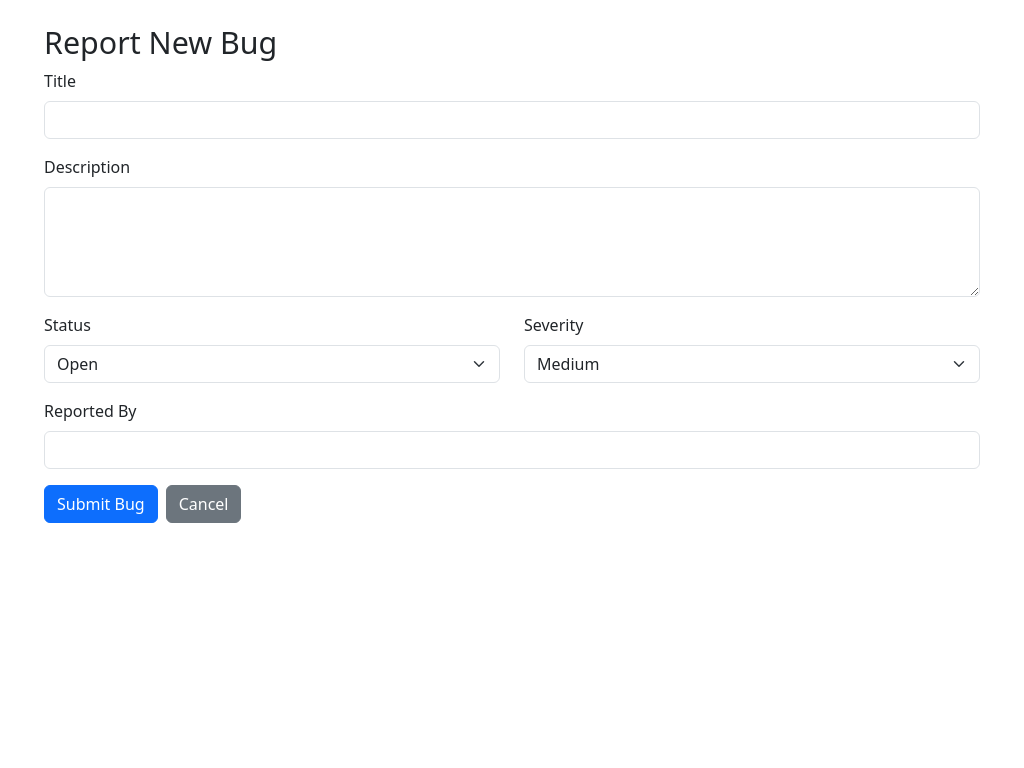
Test: BugForm Component › handles API errors on submission
Note: Fill form partially
Step 1. Type "Tester" into the field labelled "Reported By" → (512, 450), box [44,430,980,468]
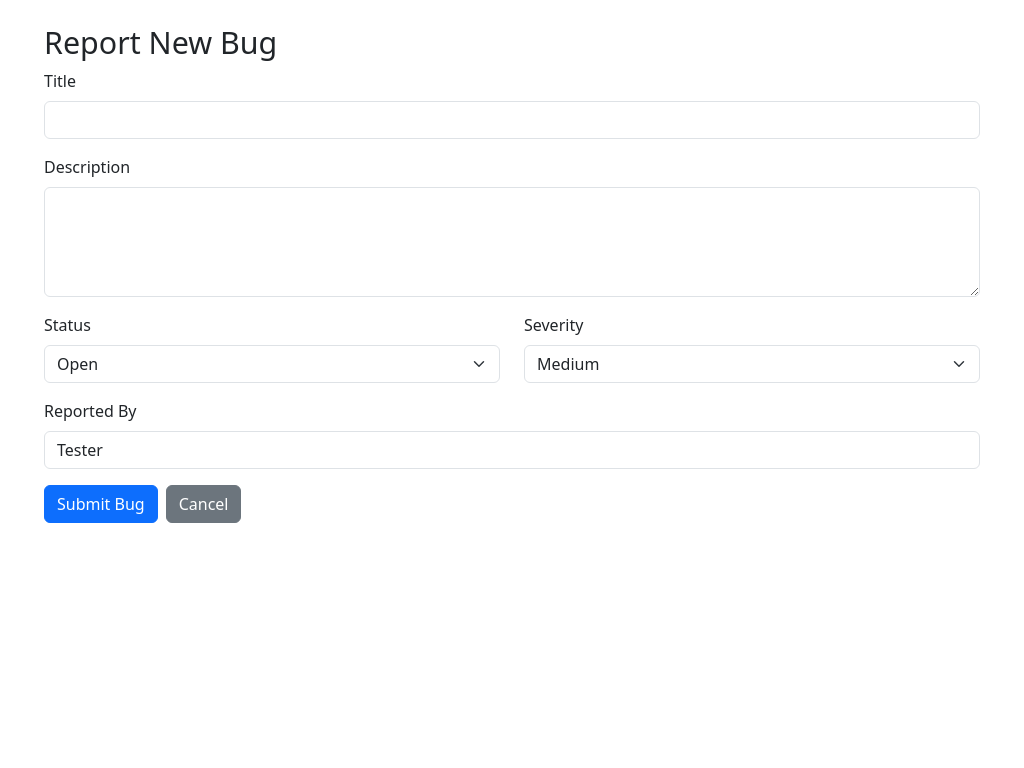
Note: Submit form
Step 2. Click the button "Submit Bug" → (101, 504), box [44,484,158,522]
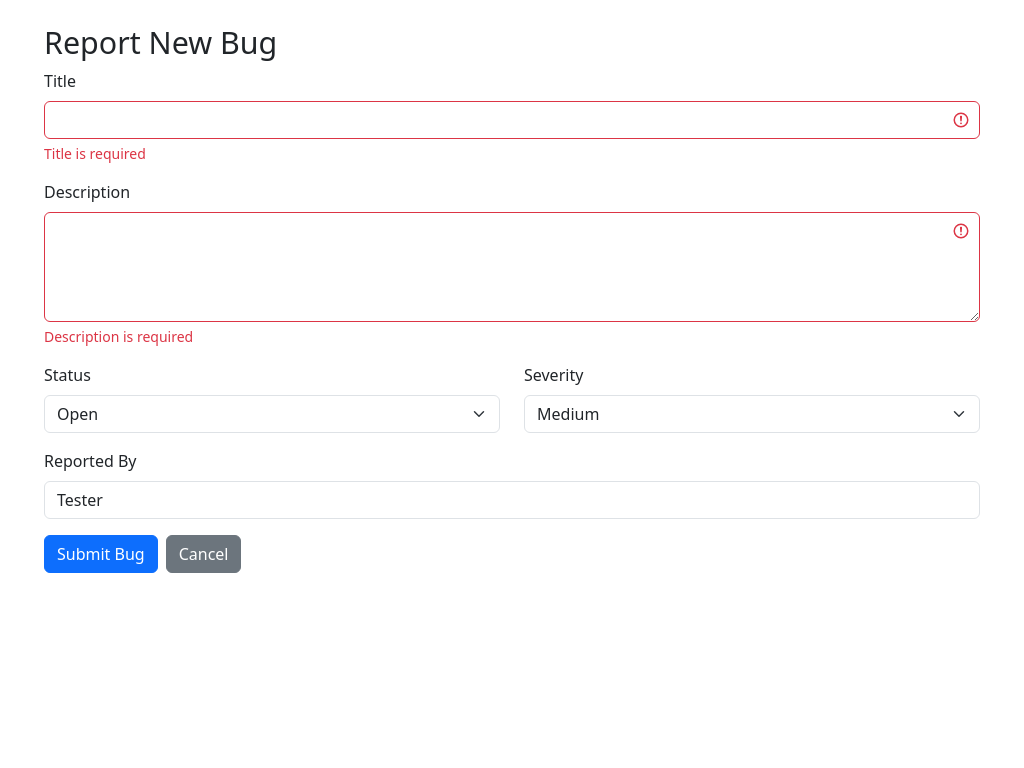
Check: the text "Title is required" is shown, box [44,144,146,162]
